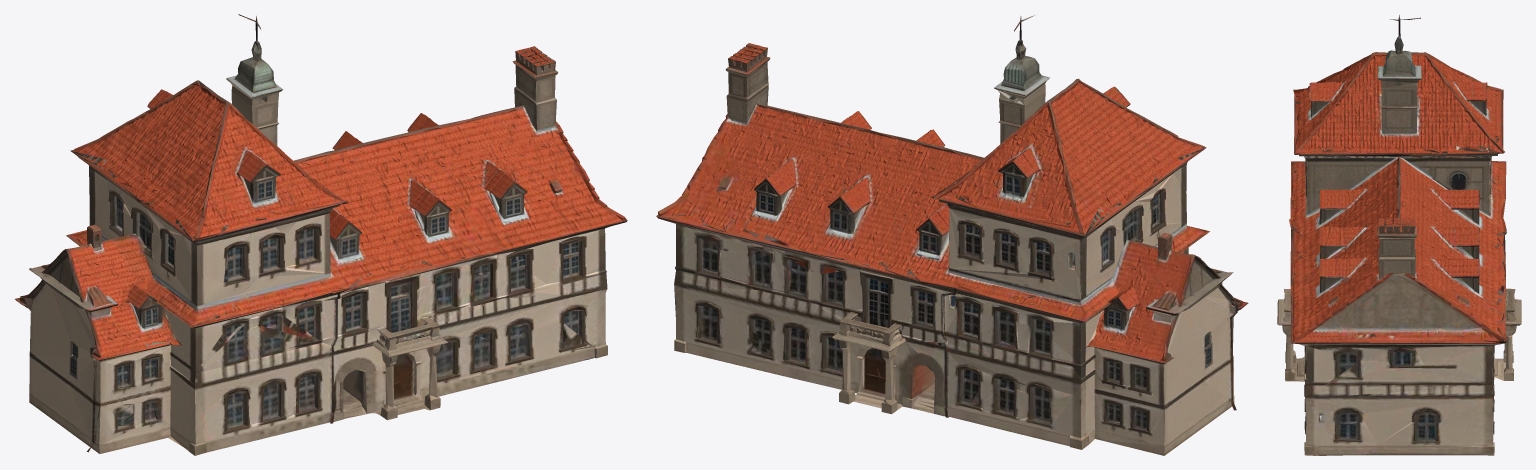
File: hochschule.glb
3 renders of one model, left to right at view 1: azimuth 30°, elevation 25°; view 2: azimuth 150°, elevation 25°; view 3: azimuth 270°, elevation 25°, orthographic. The views are drawn at different scales.
Parts seen in each view (by area): view 1: output_unwrapped; view 2: output_unwrapped; view 3: output_unwrapped.
Part boxes in pixels (left/top/right/bottom): output_unwrapped: left=15, top=14, right=627, bottom=455; output_unwrapped: left=656, top=15, right=1248, bottom=455; output_unwrapped: left=1277, top=15, right=1521, bottom=455.
Size of the model in its own units: 1.9 by 1.35 by 0.9386.
Materials: 1 (1 with a texture image).
